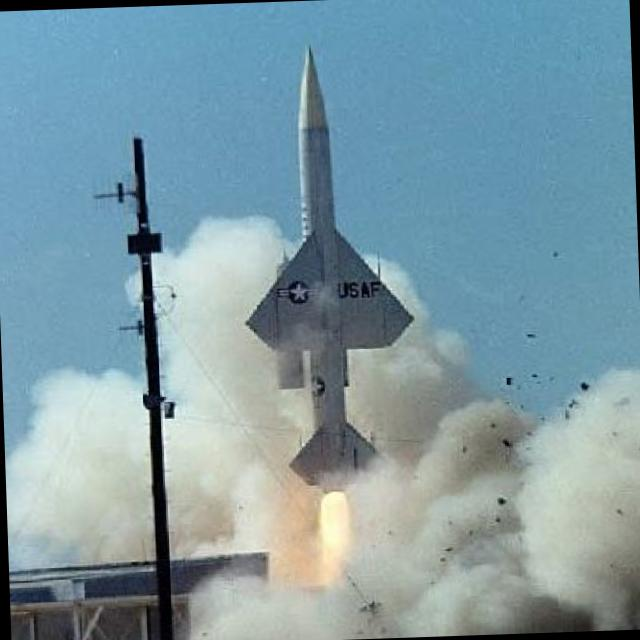rocket: (240, 36, 417, 500)
